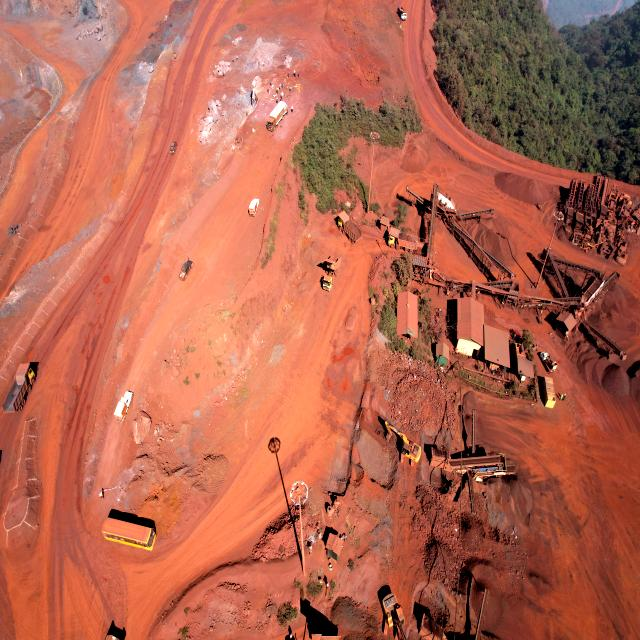Dumper truck: (5, 362, 37, 416), (389, 226, 418, 254), (322, 252, 341, 290), (339, 212, 362, 242), (397, 7, 407, 20)
Excavator: (383, 413, 422, 465), (378, 592, 408, 640)
car: (114, 386, 133, 424), (179, 256, 193, 282), (248, 198, 259, 214), (168, 140, 178, 154)
person: (563, 393, 566, 402), (561, 394, 564, 403), (291, 105, 294, 113), (297, 71, 300, 77), (288, 72, 290, 78)
